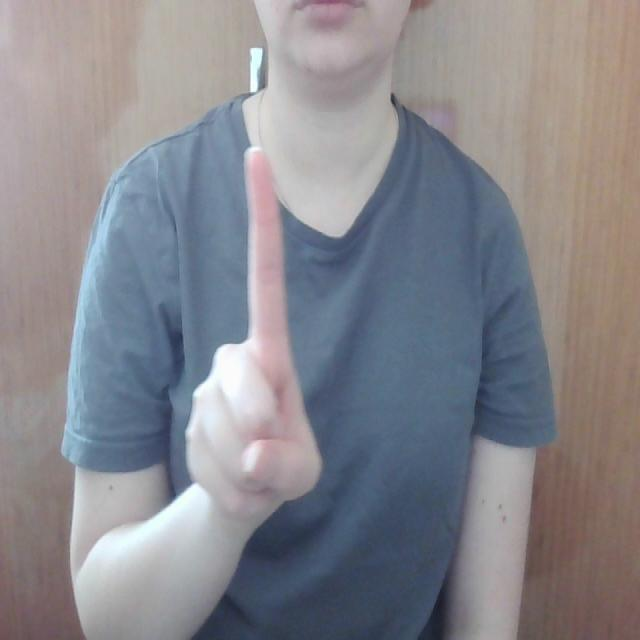Hayir: (182, 130, 339, 532)
